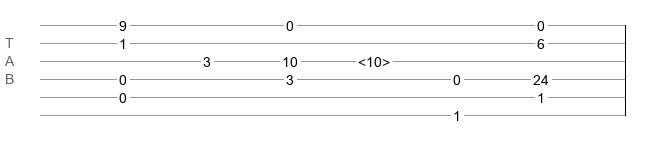0: (119, 72, 127, 82), (119, 90, 127, 100), (286, 18, 294, 28), (453, 72, 461, 82), (537, 18, 545, 28)
1: (119, 36, 127, 46), (453, 108, 461, 118), (537, 90, 545, 100)
10: (282, 54, 298, 64)
24: (533, 72, 549, 82)
3: (203, 54, 211, 64), (286, 72, 294, 82)
6: (537, 36, 545, 46)
9: (119, 18, 127, 28)
harmonic: (358, 54, 390, 64)
